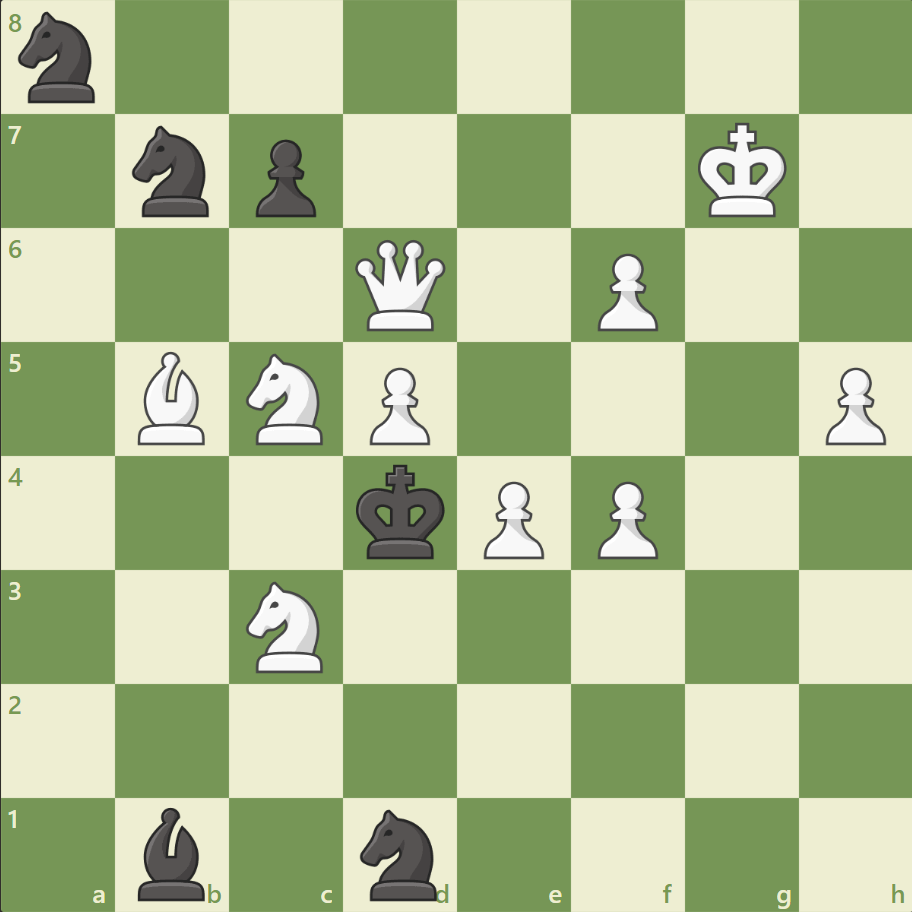B: (131, 347, 215, 449)
K: (692, 117, 792, 225)
N: (238, 348, 335, 450), (238, 575, 335, 677)
P: (474, 473, 549, 564), (588, 246, 662, 337), (361, 359, 435, 450), (815, 359, 889, 450), (588, 473, 662, 564)
Q: (351, 236, 450, 335)
b: (131, 801, 215, 904)
k: (351, 458, 451, 566)
n: (124, 121, 222, 223), (351, 802, 449, 904), (11, 7, 108, 110)
p: (247, 132, 322, 223)
